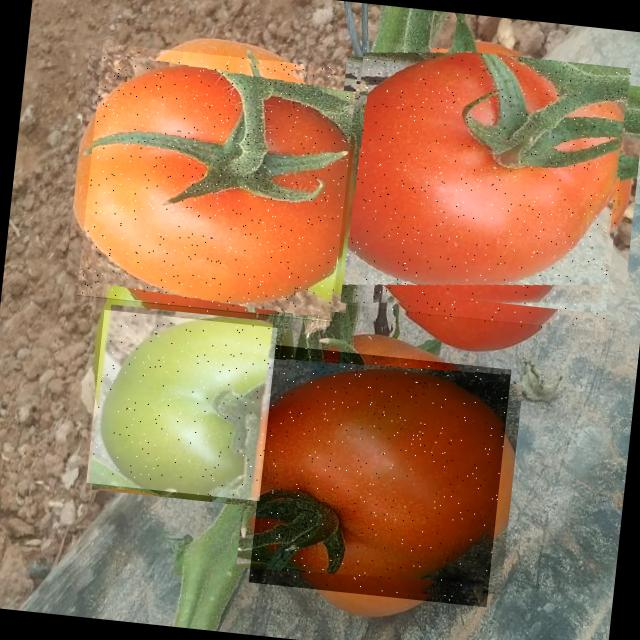Ripe Tomato: (336, 41, 631, 336), (76, 43, 357, 324), (248, 344, 511, 607)
Unripe Tomato: (86, 310, 277, 500)
